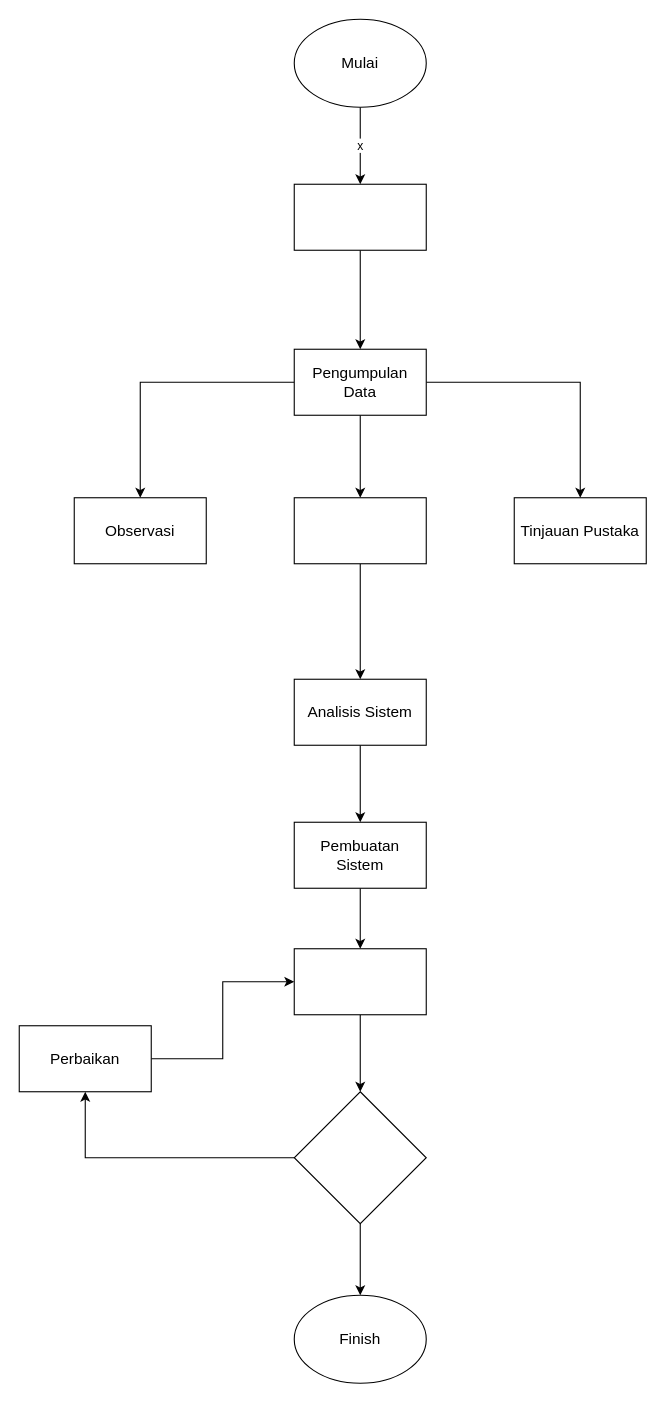
Some shapes in this 666 by 1403 pixel diagram are drawn without their labels. The centre of each missing label's shape, as x and y in pixels:
Apakah sistem sesuai target: (x=359, y=1157)
Identifikasi Masalah: (x=359, y=216)
Pengujian Sistem: (x=359, y=981)
Wawancara: (x=359, y=530)
